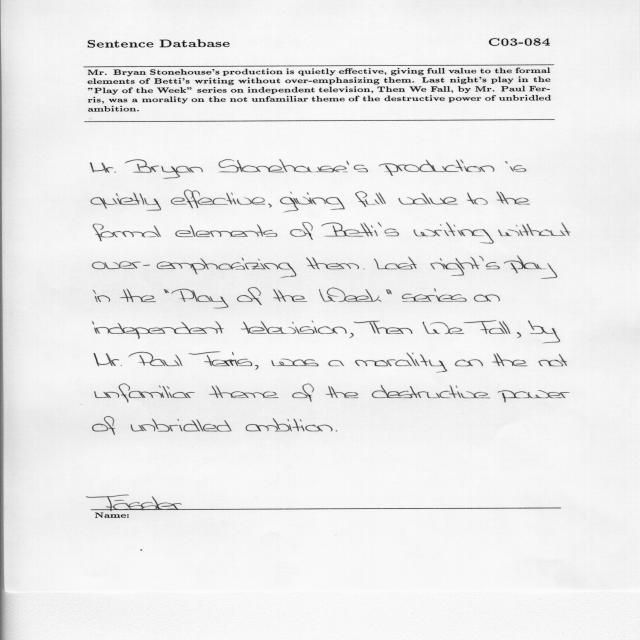word: (93, 258, 297, 278), (92, 321, 224, 339), (219, 159, 368, 173), (171, 190, 272, 209), (379, 160, 494, 176), (355, 353, 447, 373), (95, 384, 195, 402), (413, 222, 494, 244), (372, 385, 490, 398), (241, 320, 347, 334), (125, 160, 203, 179), (430, 256, 500, 276), (176, 224, 278, 237), (131, 419, 232, 432), (91, 193, 161, 211), (504, 256, 557, 279), (246, 418, 332, 432), (93, 224, 161, 241), (322, 222, 399, 237), (172, 289, 229, 308), (290, 191, 345, 210), (498, 222, 571, 236), (319, 287, 382, 302), (498, 390, 570, 403), (402, 288, 467, 302), (209, 386, 279, 399), (189, 352, 253, 366), (354, 321, 412, 334), (129, 352, 182, 366), (528, 321, 560, 344), (398, 193, 458, 204), (464, 320, 510, 334), (306, 257, 359, 269), (374, 257, 417, 270), (423, 321, 464, 334), (355, 191, 386, 207), (119, 289, 156, 302), (94, 353, 130, 366), (492, 354, 527, 367), (237, 287, 262, 305), (496, 192, 530, 205), (273, 289, 307, 302), (93, 416, 115, 435), (290, 222, 313, 240), (292, 384, 314, 402), (326, 386, 359, 398), (538, 354, 567, 366), (272, 359, 319, 366), (280, 197, 298, 213), (90, 162, 116, 173), (467, 193, 488, 205), (505, 161, 526, 172), (93, 290, 110, 302), (455, 360, 483, 367), (474, 295, 500, 302), (329, 360, 344, 366), (386, 289, 392, 295), (349, 333, 354, 338), (517, 332, 521, 338), (164, 289, 169, 293), (255, 365, 258, 370), (363, 269, 365, 270), (336, 431, 338, 432)
